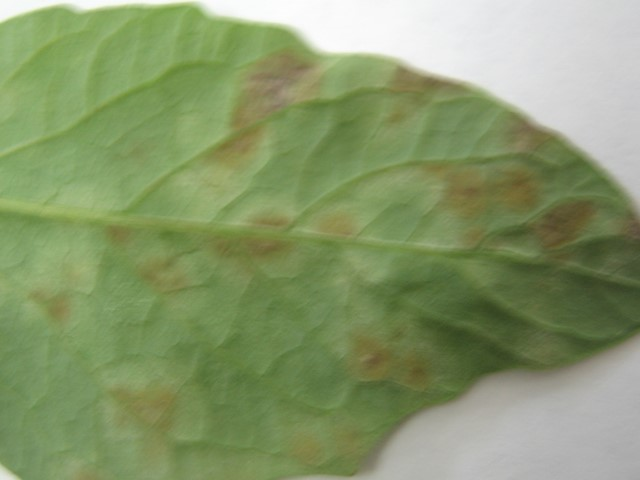negra: (226, 51, 320, 160), (417, 154, 551, 219), (112, 365, 180, 455), (522, 195, 592, 262), (354, 340, 429, 387), (236, 206, 295, 258)
